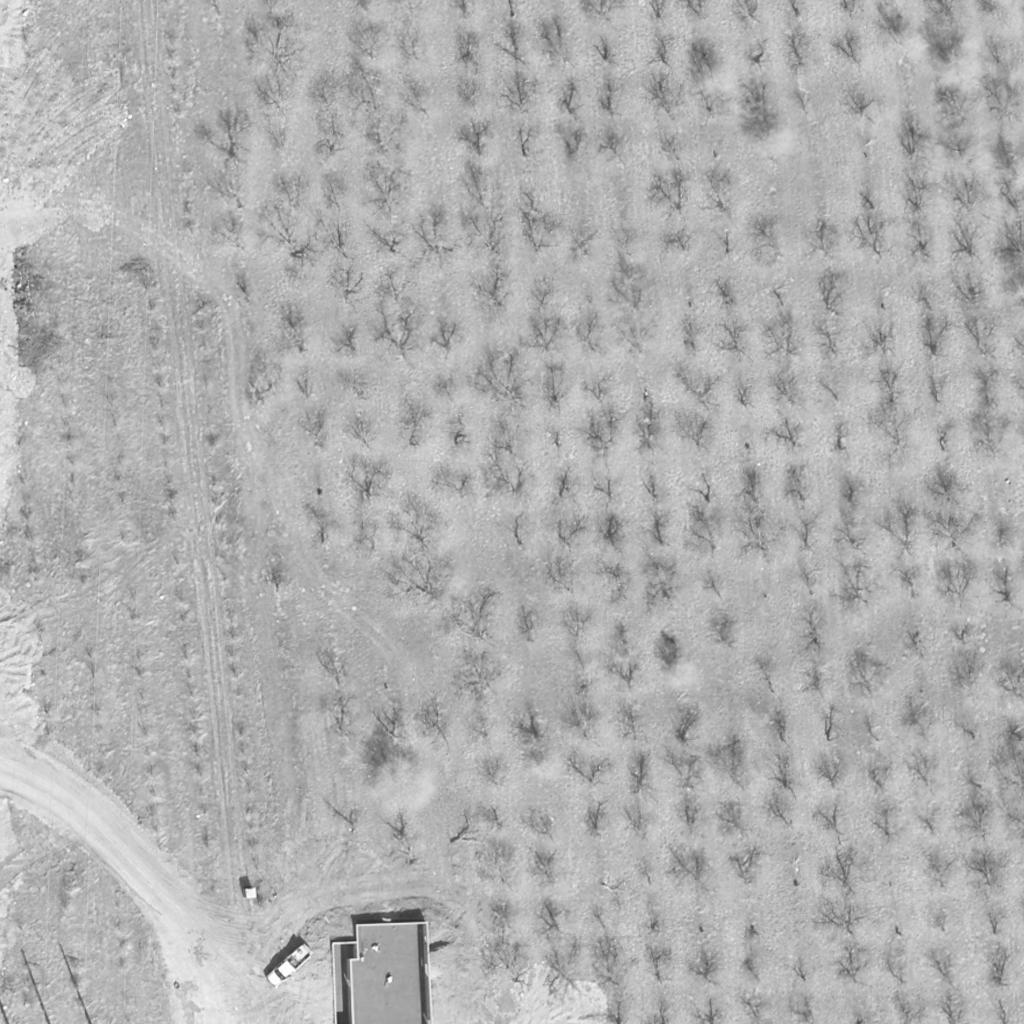vehicle: (266, 943, 314, 989)
